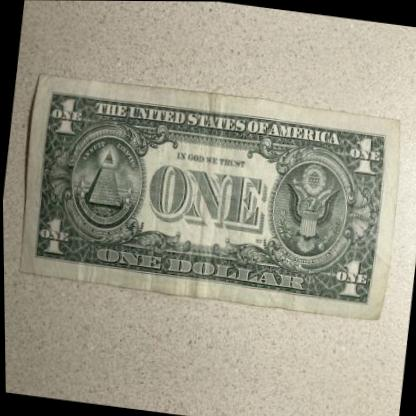one-back: (9, 68, 410, 322)
